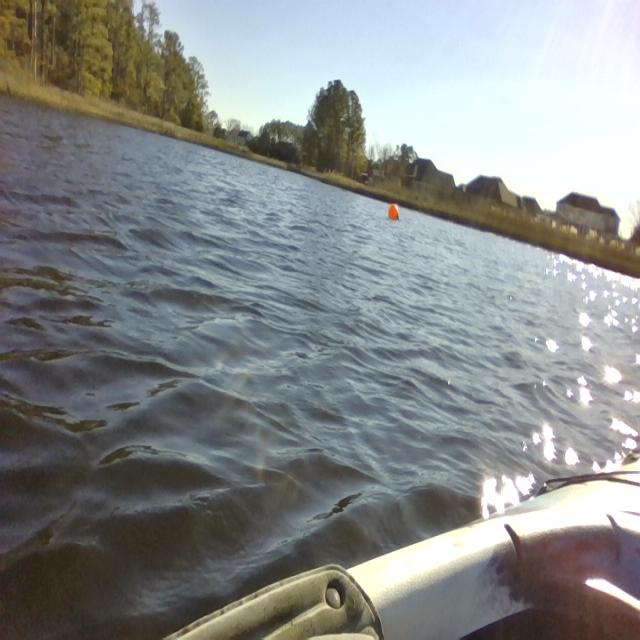Buoy: (385, 198, 403, 232)
